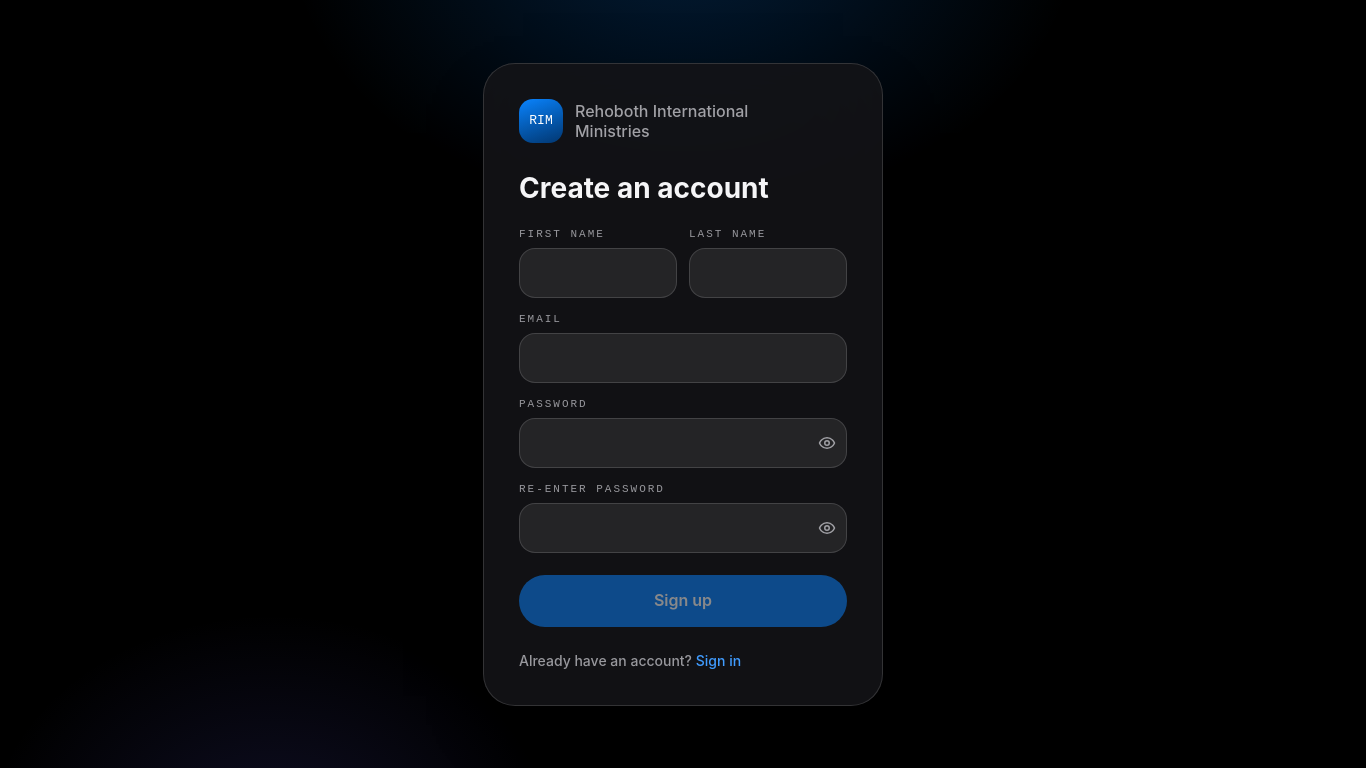
Test: signing up › tells them where the confirmation went — the address they typed, tidied — and to check spam
The width and height of the screenshot is (1366, 768).
Type "Ada" into the field labelled "First name".
click(598, 272); type("Ada")  # box [519,248,677,298]
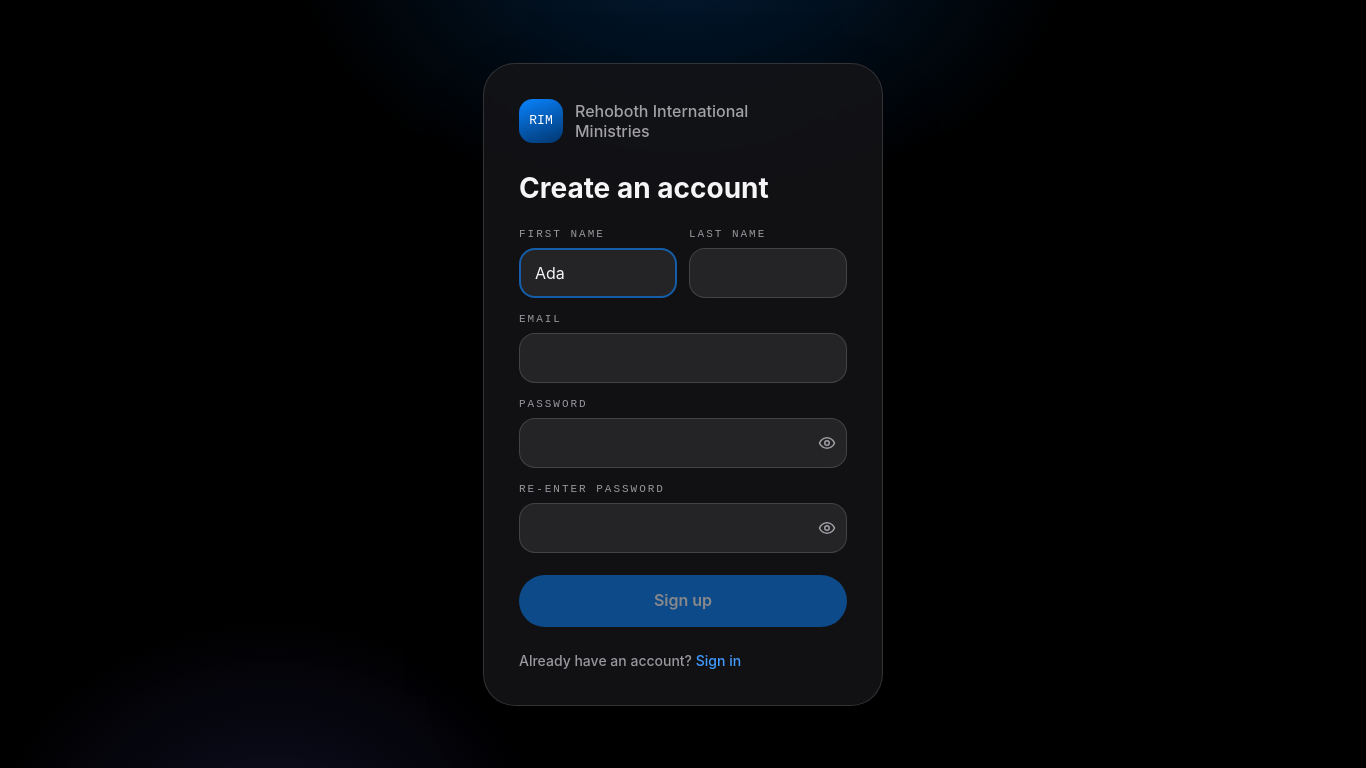
Type "Grace" into the field labelled "Last name".
click(768, 272); type("Grace")  # box [689,248,847,298]
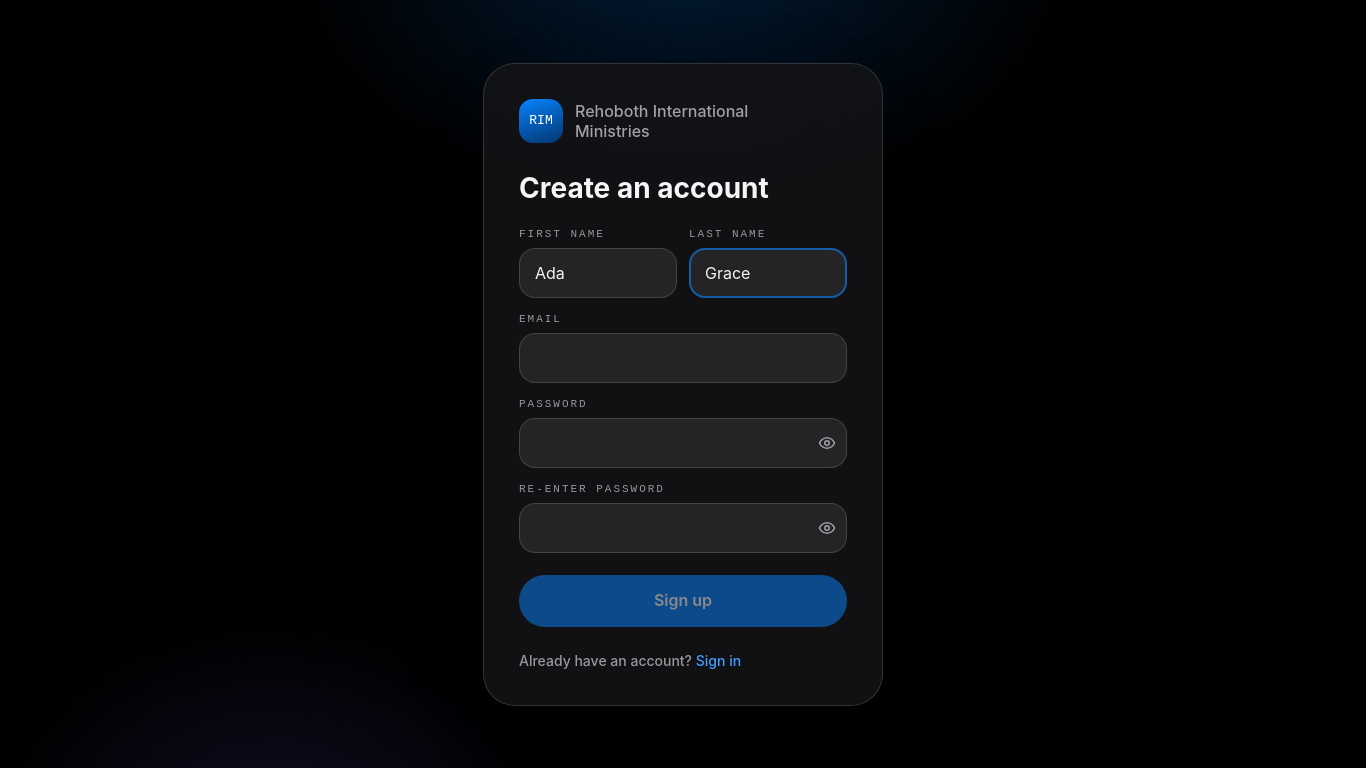
Type "  ada@gmail.com " into the field labelled "Email".
click(683, 358); type("  ada@gmail.com ")  # box [519,332,847,382]
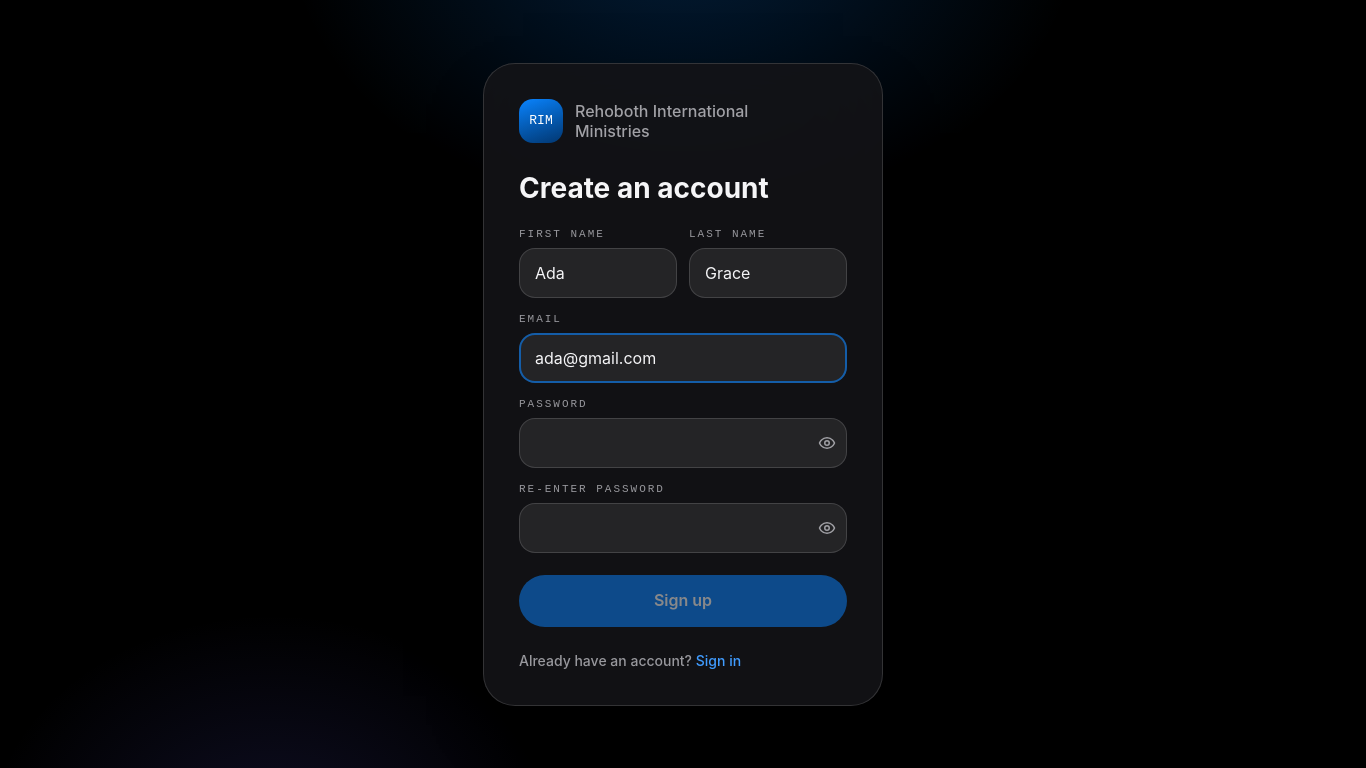
Type "Sunday-Rota-9" into the password field labelled "Password".
click(683, 442); type("Sunday-Rota-9")  # box [519,418,847,468]
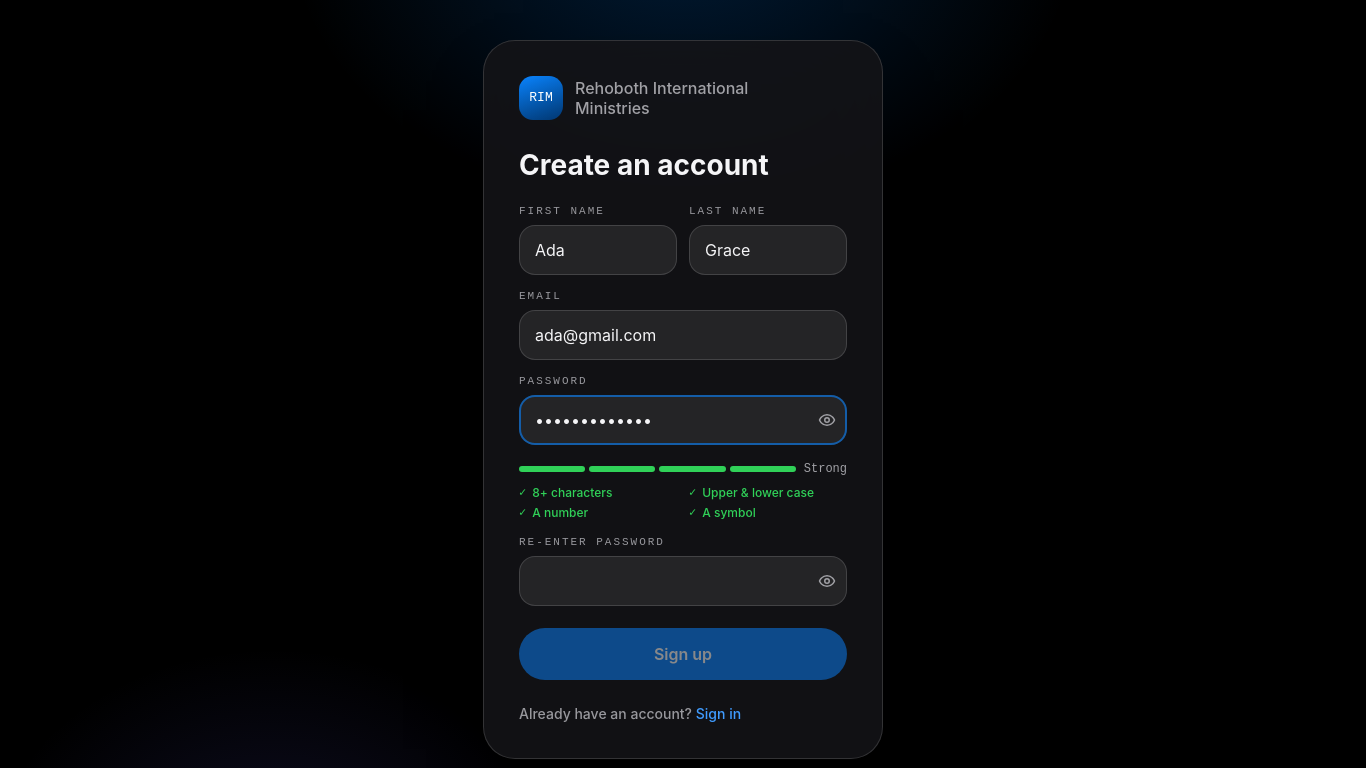
Type "Sunday-Rota-9" into the password field labelled "Re-enter password".
click(683, 581); type("Sunday-Rota-9")  # box [519,556,847,606]
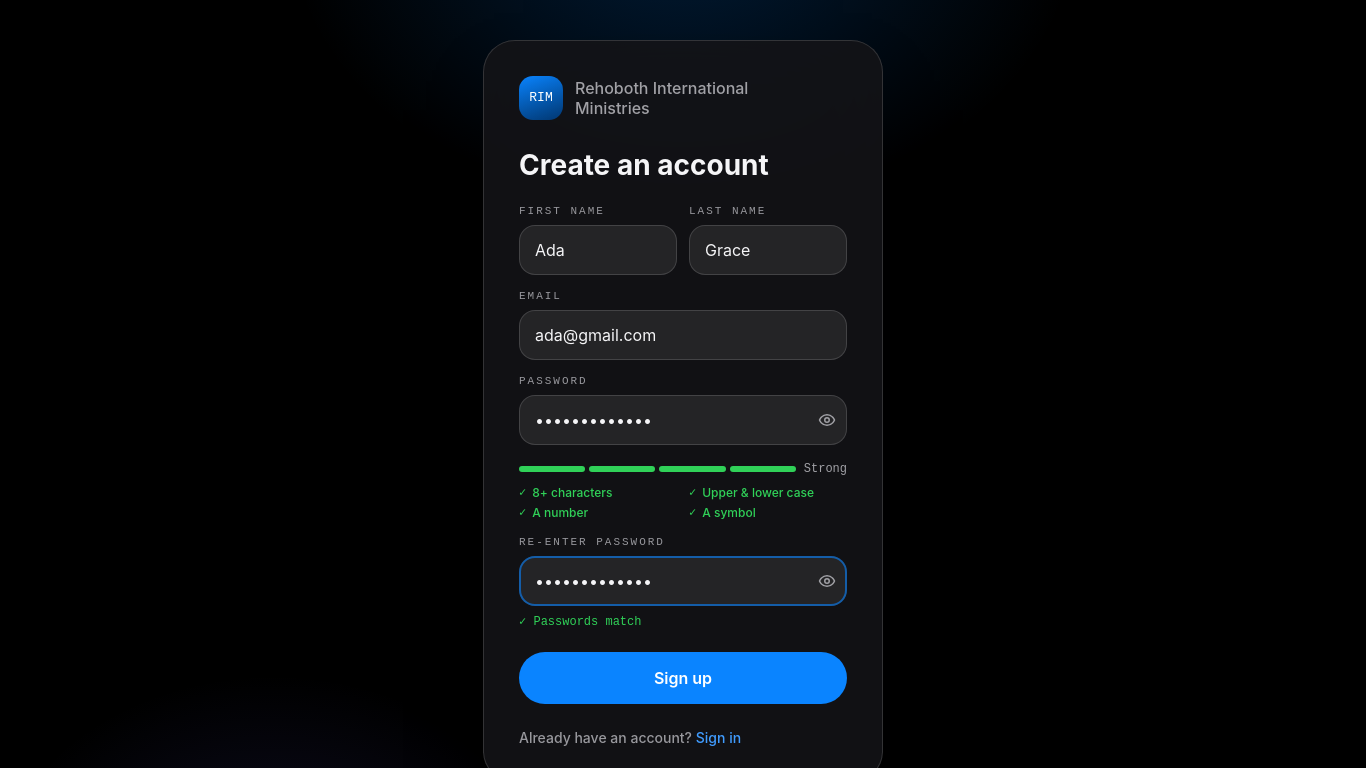
Click the button "Sign up".
click(683, 678)  # box [519,652,847,704]
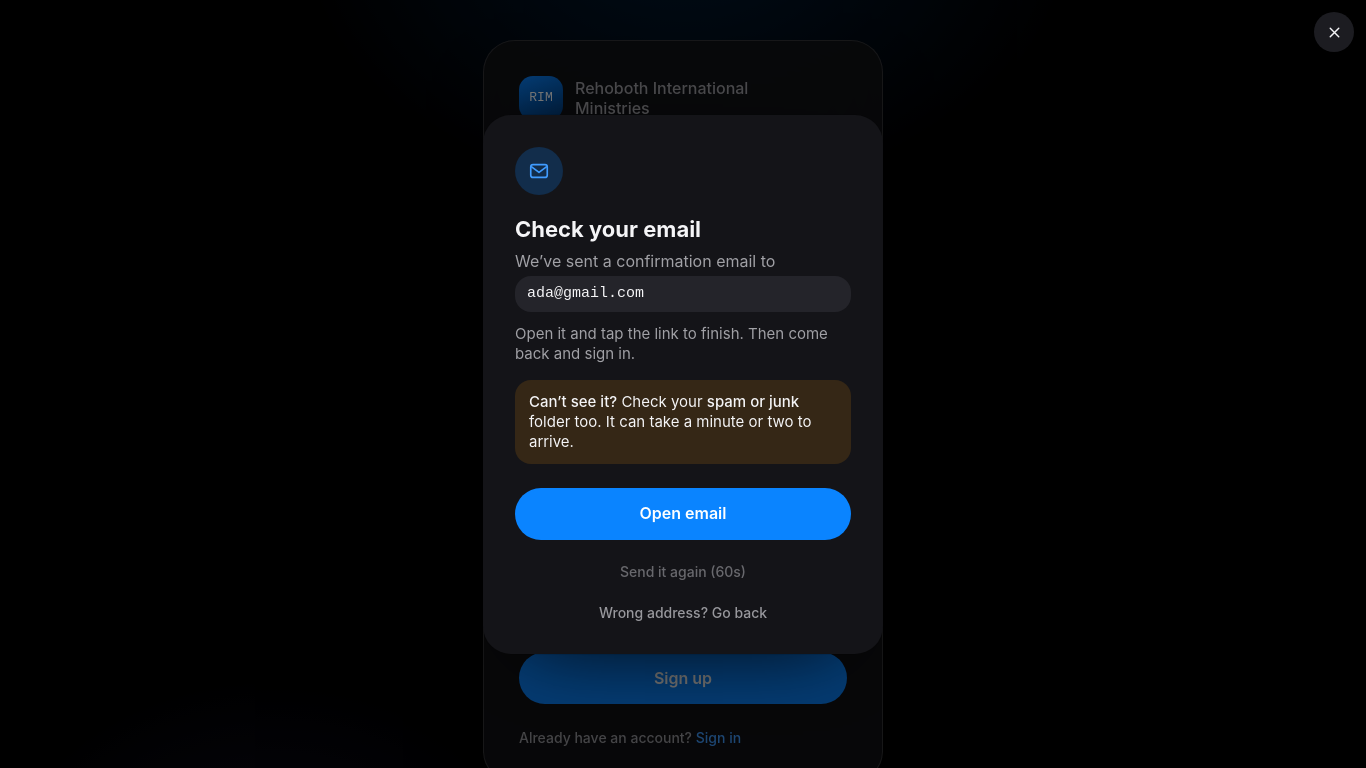
Result: the dialog "Check your email" is shown
Result: the text "ada@gmail.com" is shown at [515,276,851,312]
Result: the text "spam or junk" is shown at [707,392,799,410]
